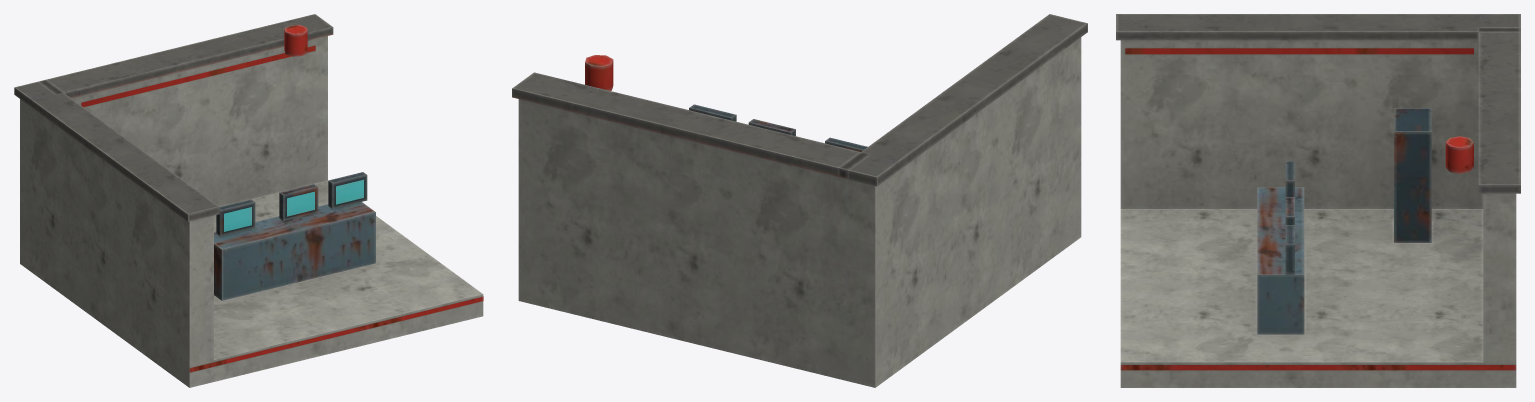
Rendered from security_center.glb.
3 views of the same model, side by side, from view 1: azimuth 30°, elevation 25°; view 2: azimuth 150°, elevation 25°; view 3: azimuth 270°, elevation 25° (orthographic). The views are drawn at different scales.
Parts seen in each view (by area): view 1: te_security_center; view 2: te_security_center; view 3: te_security_center.
Boxes of the visible parts, bbox=[...] form: te_security_center: bbox=[14, 14, 483, 387]; te_security_center: bbox=[512, 14, 1087, 387]; te_security_center: bbox=[1116, 14, 1520, 387].
Size of the model in its own units: 0.86 by 0.52 by 0.86.
Materials: 1 (1 with a texture image).
